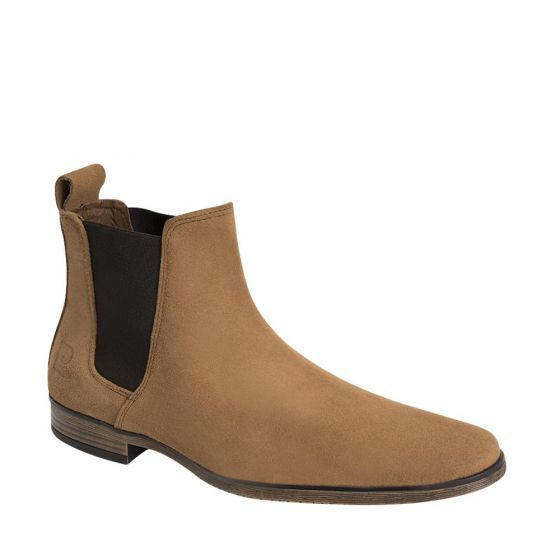gamuza: (47, 164, 500, 488)
